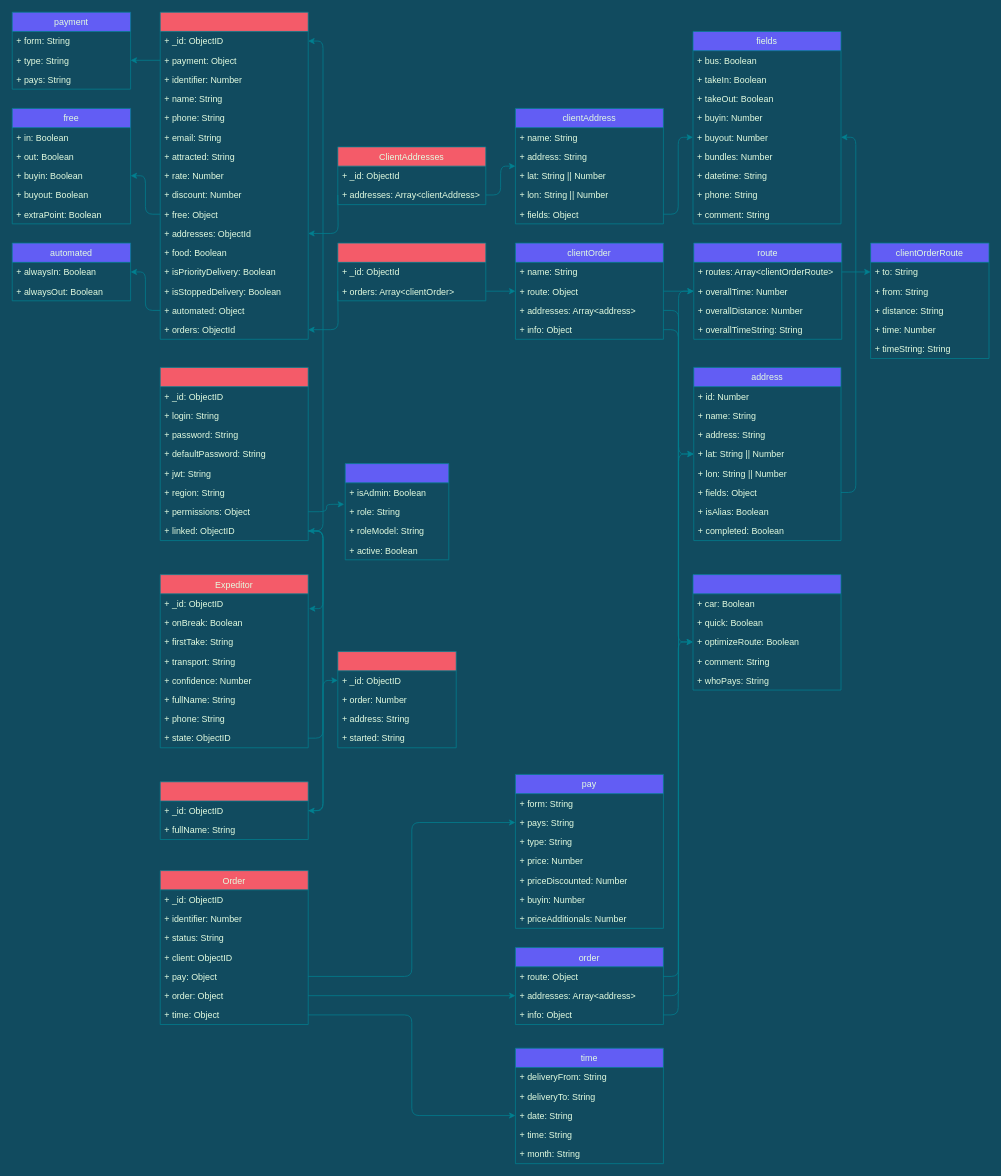
This 1001x1176 diagram has some shape labels left out. Each missing label, with the box of its shape:
Client: (159, 11, 308, 339)
ClientOrders: (337, 242, 486, 301)
ExpeditorState: (337, 651, 456, 748)
info: (692, 574, 841, 690)
Logist: (159, 781, 308, 840)
permissions: (344, 463, 449, 560)
User: (159, 367, 308, 541)
